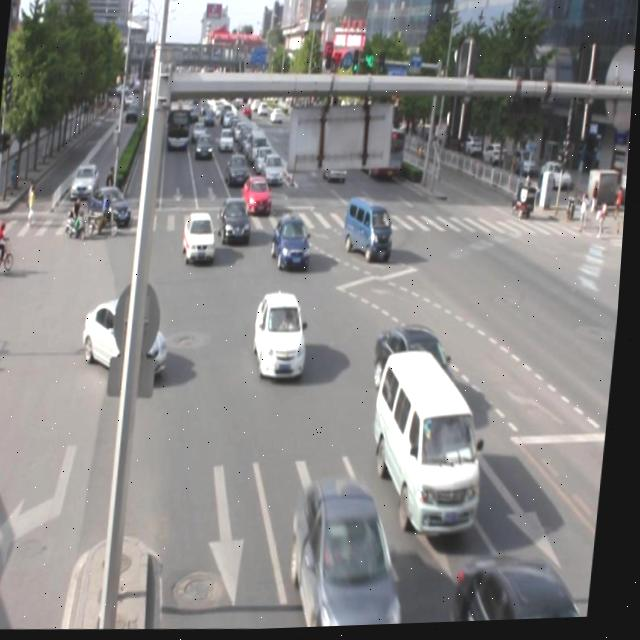car: (290, 476, 420, 631), (456, 554, 601, 626), (84, 296, 177, 383), (376, 325, 463, 414), (254, 290, 315, 382), (275, 215, 316, 272), (185, 212, 221, 265), (219, 197, 256, 246)
truck: (370, 350, 497, 541), (345, 197, 397, 263)
